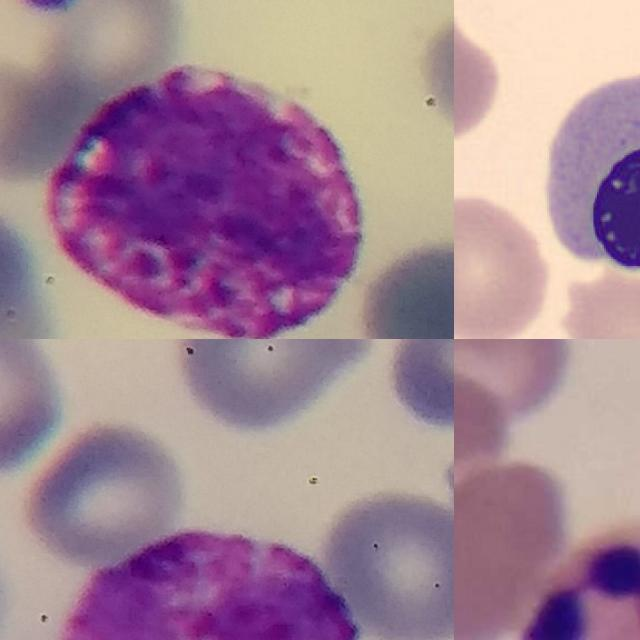Basophil: (47, 59, 366, 339), (66, 532, 369, 640)
Lymphocyte: (527, 56, 640, 280)
Neutrophil: (522, 513, 640, 640)
RBC: (454, 188, 556, 339), (454, 0, 504, 146)
